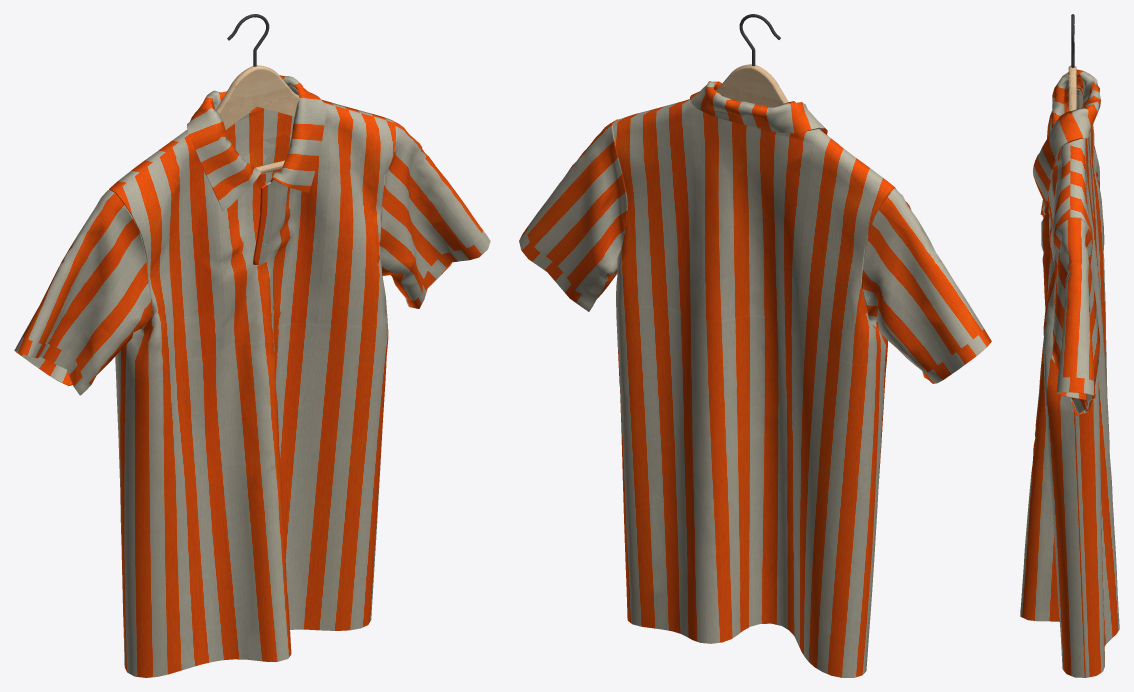
File: shirt 5.FBX
3 views of the same model, side by side, from view 1: azimuth 30°, elevation 25°; view 2: azimuth 150°, elevation 25°; view 3: azimuth 270°, elevation 25° (orthographic). The views are drawn at different scales.
Visible parts, largest first — view 1: Shirt 5, hanger; view 2: Shirt 5, hanger; view 3: Shirt 5, hanger.
Boxes of the visible parts, x1=… form: Shirt 5: x1=14, y1=75, x2=490, y2=677; hanger: x1=216, y1=14, x2=299, y2=173; Shirt 5: x1=519, y1=81, x2=991, y2=677; hanger: x1=716, y1=14, x2=788, y2=107; Shirt 5: x1=1020, y1=69, x2=1119, y2=677; hanger: x1=1068, y1=14, x2=1076, y2=111.
Bounding box in the file's own units: 686 × 132 × 886.
